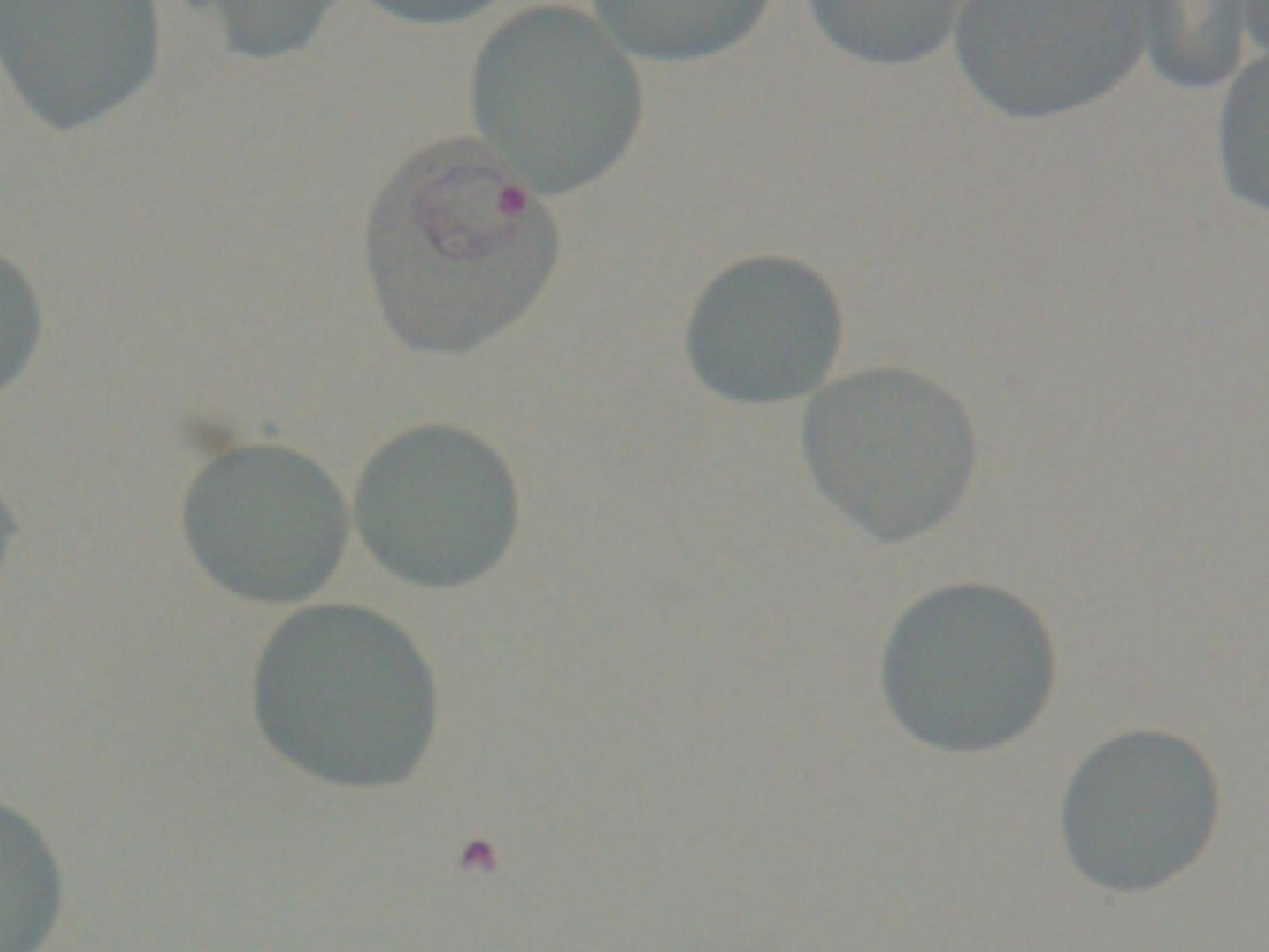Infected: (364, 137, 564, 359)
Uninfected: (804, 368, 980, 544), (478, 12, 646, 194), (256, 609, 432, 777), (888, 584, 1056, 749), (357, 424, 516, 585), (189, 446, 350, 601), (1062, 730, 1216, 890), (687, 256, 839, 401)
